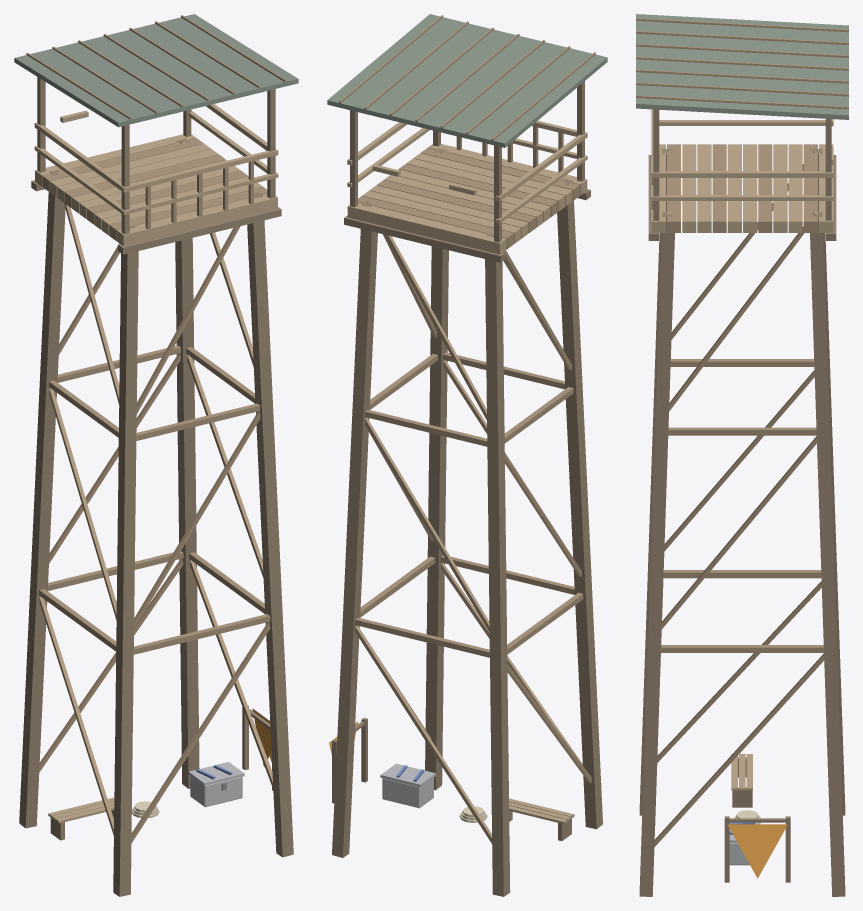
File: gorge_look.glb
The picture shows the model from 3 angles, left to right: view 1: azimuth 30°, elevation 25°; view 2: azimuth 150°, elevation 25°; view 3: azimuth 270°, elevation 25°; orthographic projection. The views are drawn at different scales.
Visible parts, largest first — view 1: gl_tower_mesh, gl_foot_mesh; view 2: gl_tower_mesh, gl_foot_mesh; view 3: gl_tower_mesh, gl_foot_mesh.
Boxes of the visible parts, box(x1,y1,x2,y2) form: gl_tower_mesh: box(14, 14, 298, 896); gl_foot_mesh: box(48, 706, 273, 840); gl_tower_mesh: box(327, 14, 607, 896); gl_foot_mesh: box(329, 718, 574, 840); gl_tower_mesh: box(636, 14, 848, 896); gl_foot_mesh: box(724, 754, 790, 882).
Size of the model in its own units: 5.3 by 17.35 by 4.2.
